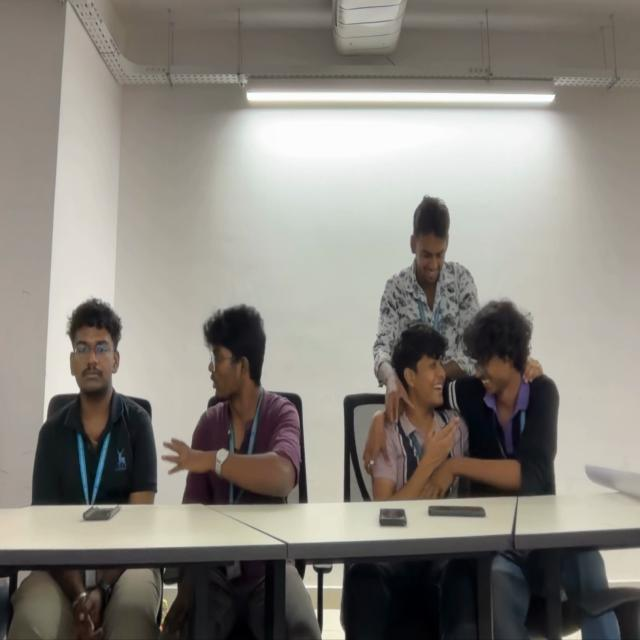Isolated: (31, 300, 158, 506), (162, 306, 300, 495)
socializing: (364, 194, 557, 497)
